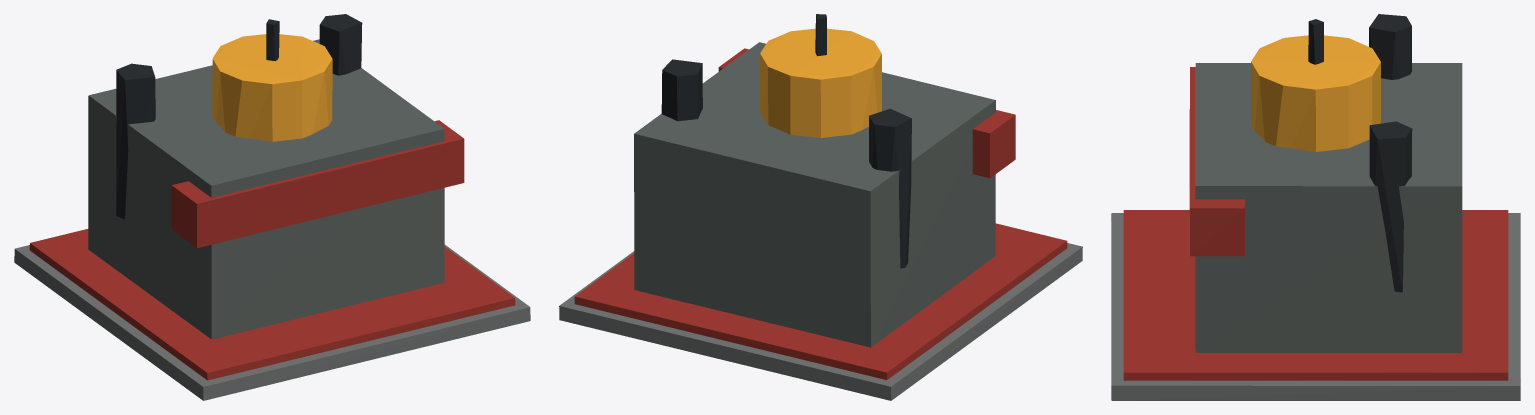
Rendered from SM_Soviet_SU_ConYard_LOD3.fbx.
The picture shows the model from 3 angles, left to right: view 1: azimuth 30°, elevation 25°; view 2: azimuth 150°, elevation 25°; view 3: azimuth 270°, elevation 25°; orthographic projection. The views are drawn at different scales.
Parts seen in each view (by area): view 1: LOD03_SM_Soviet_SU_ConYard; view 2: LOD03_SM_Soviet_SU_ConYard; view 3: LOD03_SM_Soviet_SU_ConYard.
Boxes of the visible parts, x1,y1,x2,y2 form: LOD03_SM_Soviet_SU_ConYard: (14, 14, 530, 400); LOD03_SM_Soviet_SU_ConYard: (559, 14, 1082, 400); LOD03_SM_Soviet_SU_ConYard: (1111, 14, 1520, 400).
Bounding box in the file's own units: 797 × 797 × 628.
